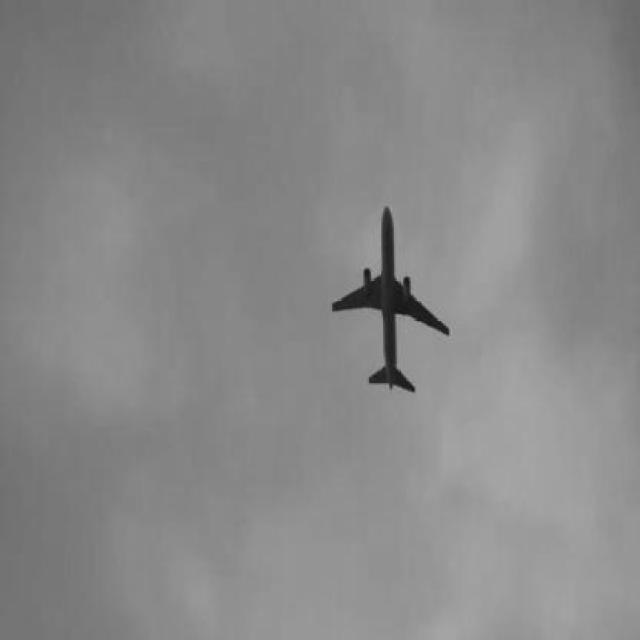aeroplane: (331, 206, 451, 391)
